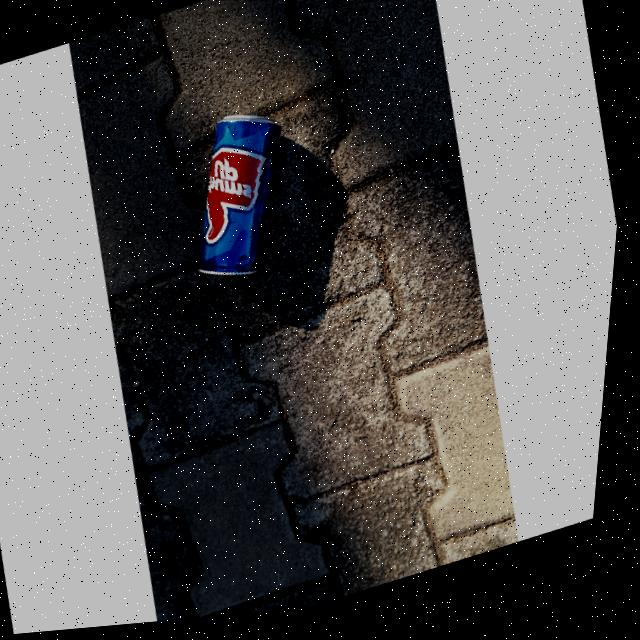Thums Up: (167, 100, 312, 301)
